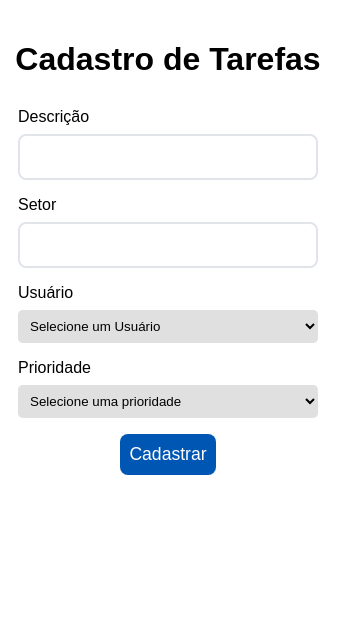
Scenario: Cadastro de Tarefas › deve exibir erro ao preencher a descrição com mais de 25 caracteres
The image size is (337, 618).
In the field labelled "Descrição": (168, 157) top-left (18, 134), bottom-right (318, 180), type "Reunião Semanal da Semana do Mês, aquela reunião cansativa demais que você faz com seu chefe porque ele adora encher seu saco, e você finge que esta tudo bem porque você precisa de salário pra comprar"
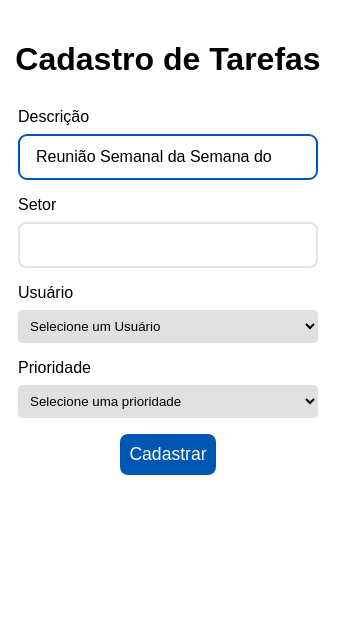
Click the button "Cadastrar": (168, 454) top-left (120, 434), bottom-right (216, 475)
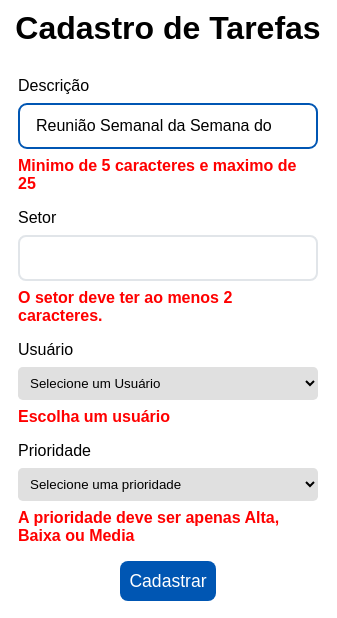
Check: the text "Minimo de 5 caracteres e maximo de 25" is shown, box top-left (18, 157), bottom-right (318, 193)
